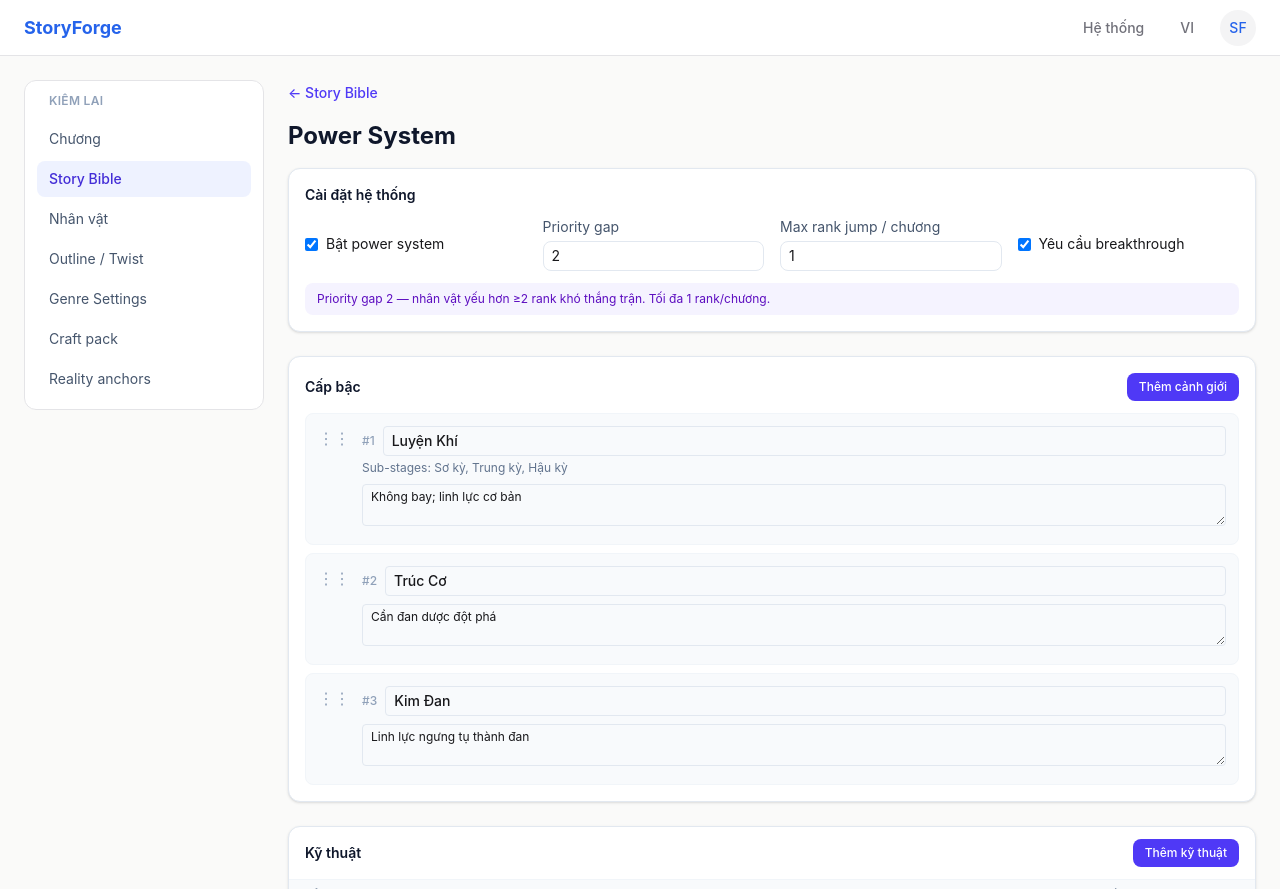
power-system components › PowerSystemPage adds rank and technique
Click the button "Thêm cảnh giới": click(1183, 387) [1127, 373, 1239, 401]
(page scrolled)
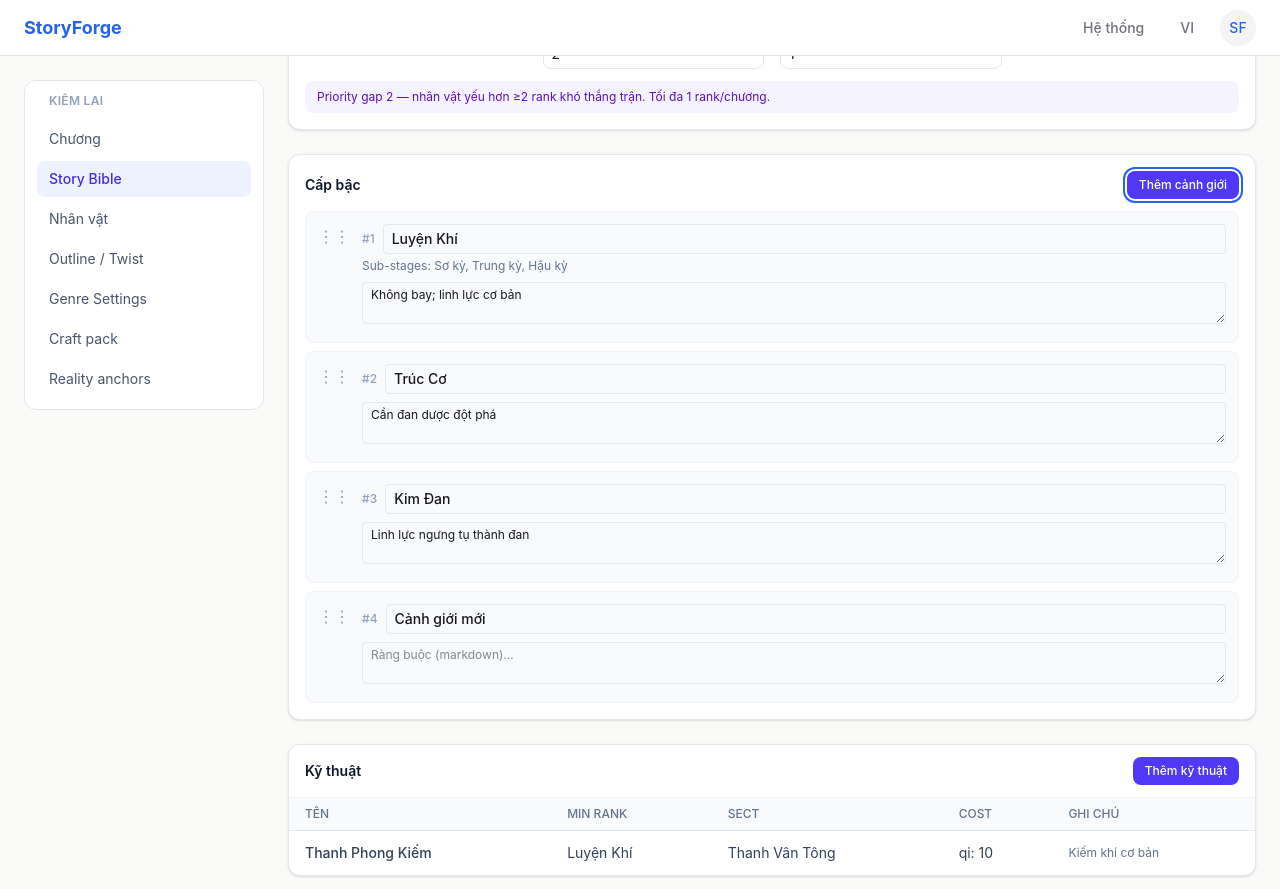
Check: the field showing "Cảnh giới mới" is shown, box [386, 604, 1226, 634]
Click the button "Thêm kỹ thuật": click(1186, 771) [1133, 757, 1239, 785]
(page scrolled)
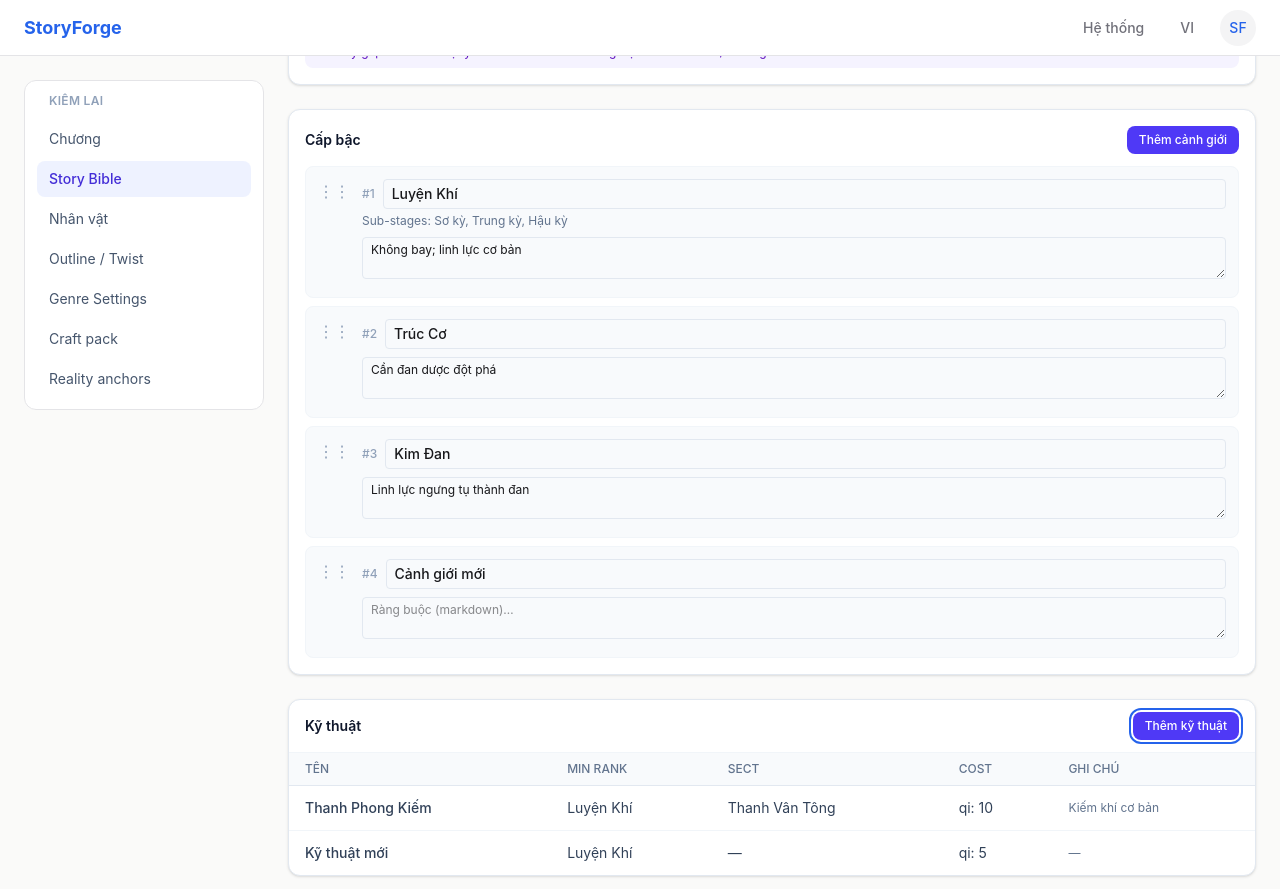
Check: the text "Kỹ thuật mới" is shown, box [289, 830, 551, 875]
